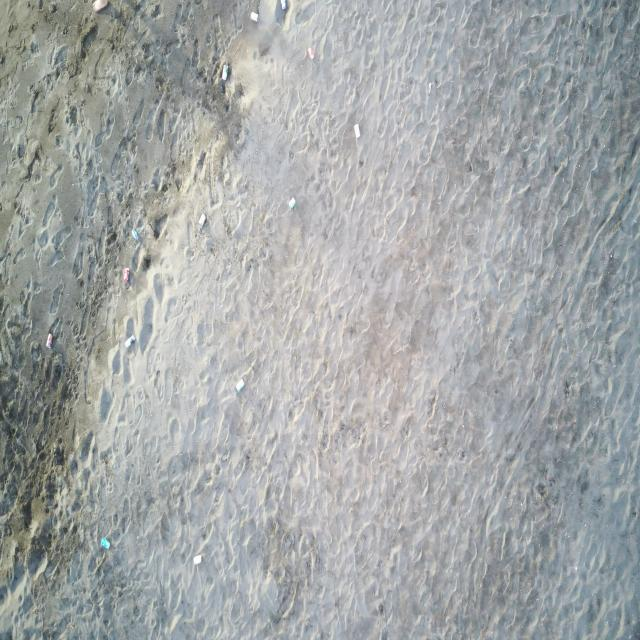tin-and-aluminum-cans: (124, 334, 136, 348), (46, 333, 54, 350), (222, 63, 229, 82), (198, 212, 206, 228), (354, 122, 361, 140), (101, 537, 111, 549), (250, 11, 260, 23), (236, 378, 244, 392), (193, 554, 202, 566), (123, 267, 130, 282), (288, 197, 296, 210), (307, 47, 315, 60), (132, 228, 140, 241), (280, 0, 287, 10)
